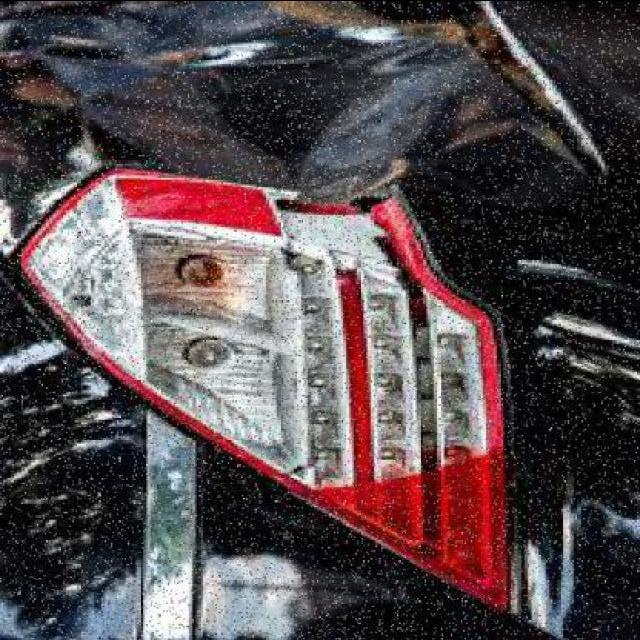Headlight-Damage: (0, 154, 532, 499)
